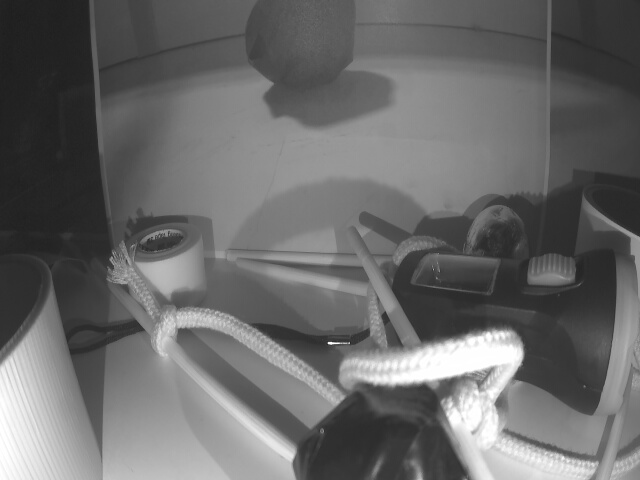Dead: (306, 383, 457, 480)
Live: (468, 203, 527, 273)
